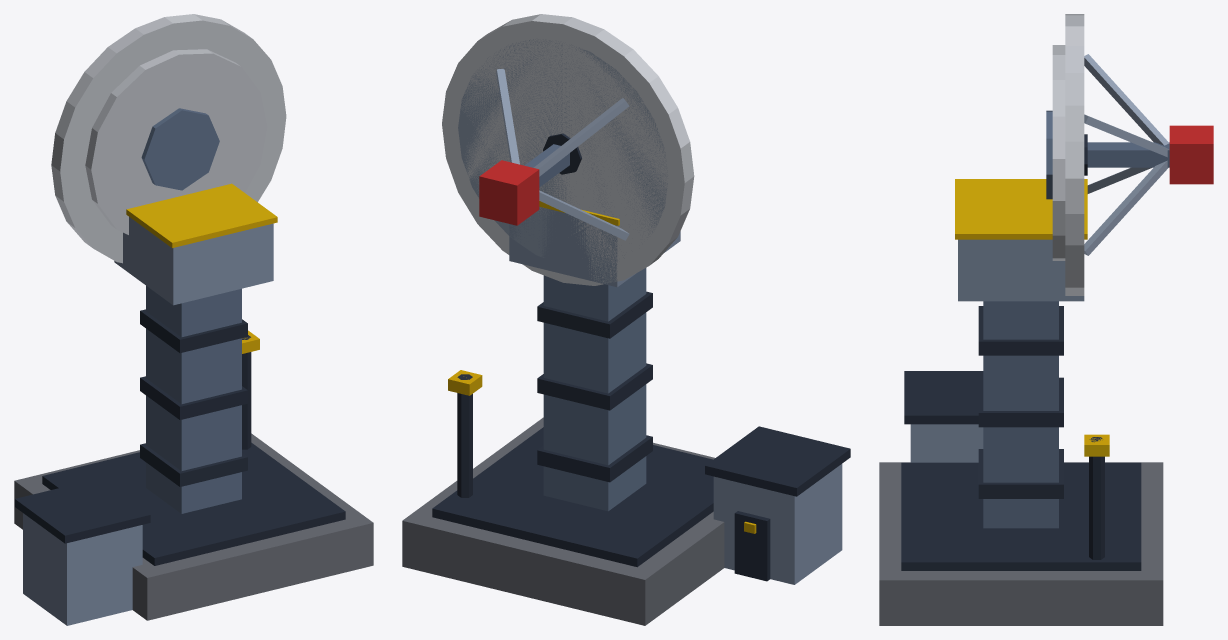
The model's file is Decor_MechaHangar_Radar.fbx.
3 views of the same model, side by side, from view 1: azimuth 30°, elevation 25°; view 2: azimuth 150°, elevation 25°; view 3: azimuth 270°, elevation 25° (orthographic). The views are drawn at different scales.
Parts seen in each view (by area): view 1: Radar_Body; view 2: Radar_Body; view 3: Radar_Body.
Boxes of the visible parts, x1=… form: Radar_Body: x1=14, y1=14, x2=373, y2=625; Radar_Body: x1=402, y1=14, x2=850, y2=625; Radar_Body: x1=879, y1=14, x2=1213, y2=625.
Bounding box in the file's own units: 11.6 × 18.9 × 10.6.
